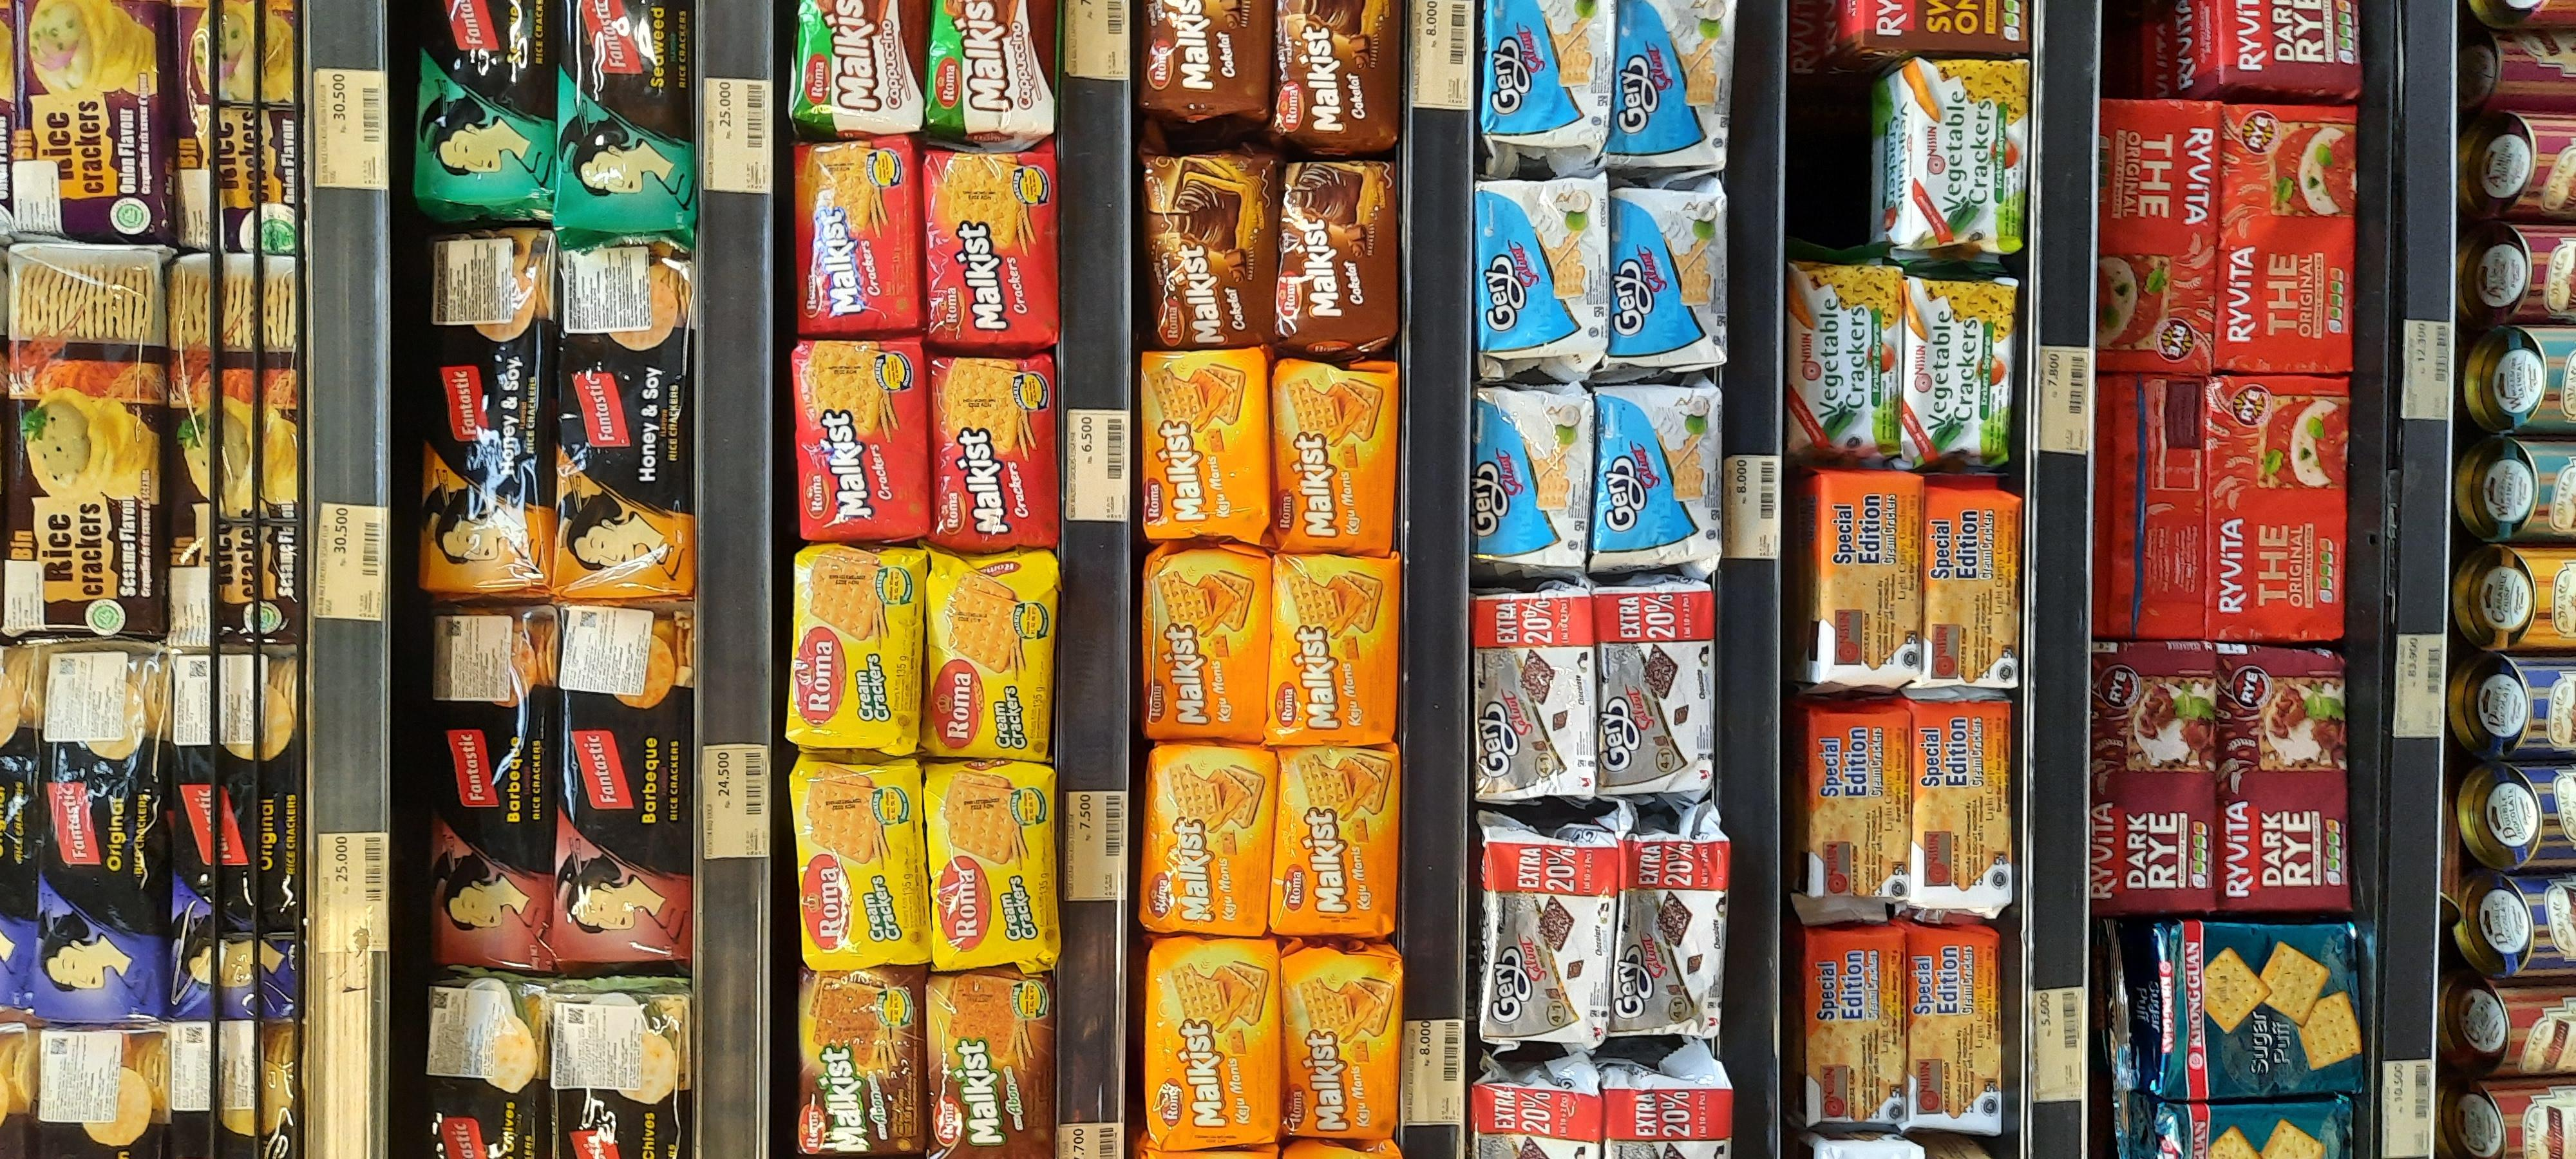90101225209100: (1477, 378, 1598, 575), (1603, 179, 1725, 376), (1595, 386, 1717, 583), (1483, 171, 1603, 368), (1482, 0, 1610, 164), (1615, 0, 1732, 174)
90101225218101: (1474, 819, 1615, 1062), (1584, 584, 1725, 827), (1464, 579, 1603, 822), (1617, 827, 1723, 1041)
BinRiceCrackerScsameFlavour: (10, 245, 168, 645), (159, 251, 315, 652)
FantasticBarbeque: (562, 612, 705, 975), (422, 612, 565, 973)
FantasticHoney&Soy: (429, 241, 563, 604), (550, 236, 685, 599)
FantasticOriginal: (30, 648, 164, 1034), (172, 653, 307, 1039)
KongGuanSugarPuff: (2101, 929, 2359, 1105)
NissinCreamCrackers(Special Edition)LightCrispyGoodness: (1804, 926, 1907, 1144), (1912, 924, 2016, 1143), (1909, 706, 2012, 924), (1920, 481, 2024, 699), (1819, 473, 1922, 691), (1801, 688, 1904, 905)
NissinVegetableCrackersKrekersSayuran: (1876, 51, 2035, 263), (1781, 253, 1904, 456), (1911, 263, 2032, 466)
RomaMalkistAbon: (789, 967, 928, 1157), (925, 969, 1065, 1159)
RomaMalkistCoklat: (1137, 151, 1275, 338), (1280, 158, 1416, 345)
RomaMalkistCrackers: (784, 135, 927, 335), (920, 143, 1063, 343), (787, 338, 930, 537), (930, 350, 1073, 548)
RomaMalkistCreamCrackers: (792, 760, 935, 969), (915, 762, 1058, 969), (785, 548, 928, 755), (922, 553, 1065, 760)
RomaMalkistKejuManis: (1142, 340, 1280, 548), (1145, 942, 1281, 1151), (1272, 341, 1408, 550), (1273, 547, 1410, 755), (1135, 542, 1272, 750), (1273, 734, 1410, 942), (1142, 734, 1278, 942), (1273, 941, 1410, 1149)
RyvitaDarkRye: (2215, 639, 2356, 909), (2090, 644, 2213, 911)
RyvitaTheOriginal: (2224, 97, 2364, 376), (2203, 369, 2343, 647), (2101, 107, 2241, 384)
